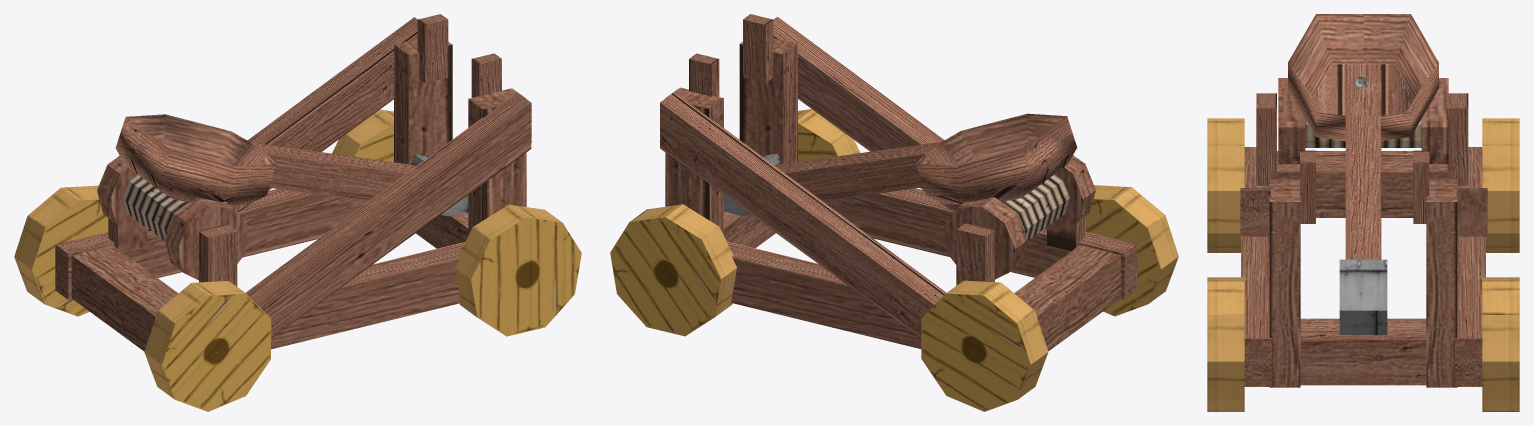
Rendered from catapult.glb.
3 renders of one model, left to right at view 1: azimuth 30°, elevation 25°; view 2: azimuth 150°, elevation 25°; view 3: azimuth 270°, elevation 25°, orthographic. The views are drawn at different scales.
Visible parts, largest first — view 1: polySurface12, CubeFire, polySurface4, polySurface6, polySurface15, polySurface13, polySurface14, Cylinder, polySurface1, polySurface3, polySurface9, polySurface10 (+6 smaller); view 2: polySurface13, CubeFire, polySurface3, polySurface5, polySurface14, polySurface12, polySurface15, Cylinder, polySurface1, polySurface4, polySurface10, polySurface9 (+6 smaller); view 3: CubeFire, polySurface2, polySurface10, polySurface9, polySurface6, polySurface5, polySurface1, polySurface4, polySurface3, polySurface14, polySurface15, Cylinder (+6 smaller).
Boxes of the visible parts, x1=… form: polySurface12: x1=245, y1=92, x2=531, y2=337; CubeFire: x1=115, y1=114, x2=468, y2=216; polySurface4: x1=144, y1=281, x2=271, y2=411; polySurface6: x1=455, y1=204, x2=581, y2=336; polySurface15: x1=155, y1=242, x2=464, y2=349; polySurface13: x1=147, y1=17, x2=417, y2=232; polySurface14: x1=55, y1=189, x2=368, y2=299; Cylinder: x1=97, y1=155, x2=248, y2=280; polySurface1: x1=71, y1=245, x2=178, y2=351; polySurface3: x1=14, y1=185, x2=108, y2=316; polySurface9: x1=394, y1=39, x2=452, y2=164; polySurface10: x1=468, y1=88, x2=526, y2=235; polySurface13: x1=660, y1=92, x2=946, y2=338; CubeFire: x1=724, y1=113, x2=1077, y2=215; polySurface3: x1=921, y1=280, x2=1048, y2=411; polySurface5: x1=610, y1=204, x2=736, y2=336; polySurface14: x1=727, y1=241, x2=1037, y2=348; polySurface12: x1=773, y1=16, x2=1045, y2=232; polySurface15: x1=823, y1=188, x2=1137, y2=299; Cylinder: x1=944, y1=155, x2=1095, y2=279; polySurface1: x1=1014, y1=245, x2=1120, y2=351; polySurface4: x1=1085, y1=185, x2=1178, y2=316; polySurface10: x1=739, y1=38, x2=797, y2=163; polySurface9: x1=665, y1=87, x2=723, y2=235; CubeFire: x1=1288, y1=14, x2=1438, y2=334; polySurface2: x1=1300, y1=318, x2=1426, y2=385; polySurface10: x1=1269, y1=179, x2=1300, y2=387; polySurface9: x1=1426, y1=179, x2=1457, y2=387; polySurface6: x1=1207, y1=277, x2=1244, y2=411; polySurface5: x1=1482, y1=277, x2=1519, y2=411; polySurface1: x1=1277, y1=151, x2=1447, y2=217; polySurface4: x1=1207, y1=118, x2=1244, y2=252; polySurface3: x1=1482, y1=118, x2=1519, y2=252; polySurface14: x1=1455, y1=147, x2=1485, y2=386; polySurface15: x1=1241, y1=147, x2=1271, y2=386; Cylinder: x1=1278, y1=78, x2=1448, y2=163.
Bounding box in the file's own units: 4.53 × 2.46 × 2.76.
Materials: 2 (2 with a texture image).
